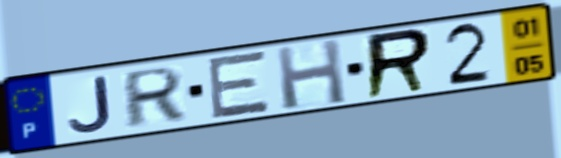2: (441, 21, 493, 89)
E: (206, 48, 273, 122)
H: (272, 36, 350, 112)
J: (65, 73, 116, 135)
R: (363, 26, 435, 103), (123, 63, 187, 131)
